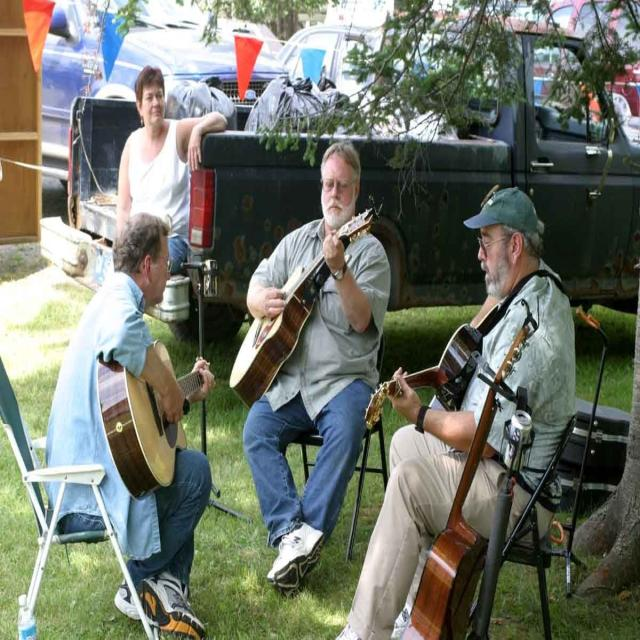guitar: (400, 324, 531, 640), (230, 208, 374, 408), (97, 339, 209, 494), (364, 323, 485, 432)
